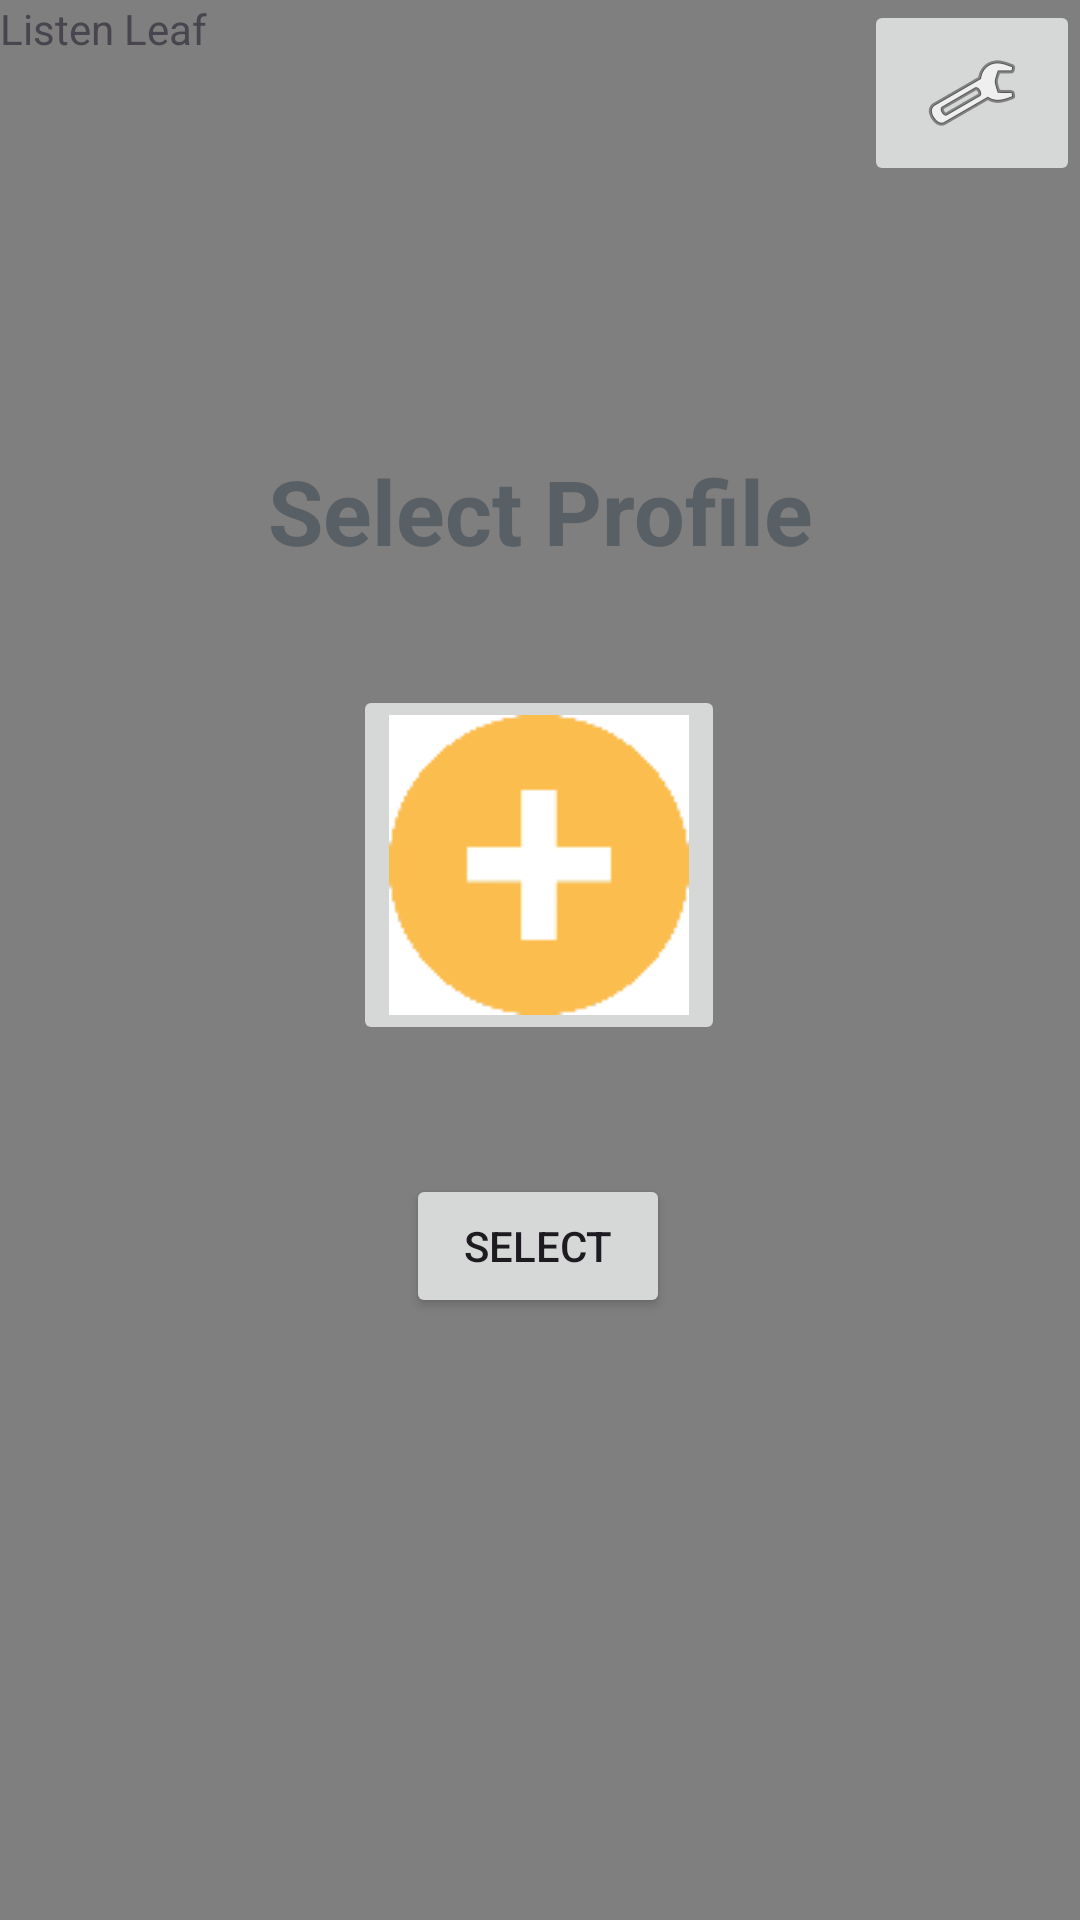

Icon bounding boxes for this 1080*1920 phone screenshot, format (x1, y1, x2, y2):
circleplusyellow: (365, 703, 713, 1027)
manage: (876, 18, 1068, 168)
